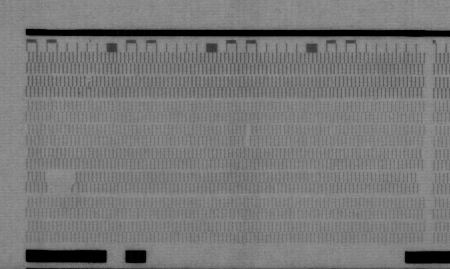Broken hole: (43, 170, 80, 196), (241, 123, 257, 149), (415, 172, 428, 194)
Oblique printing: (83, 74, 95, 91)
